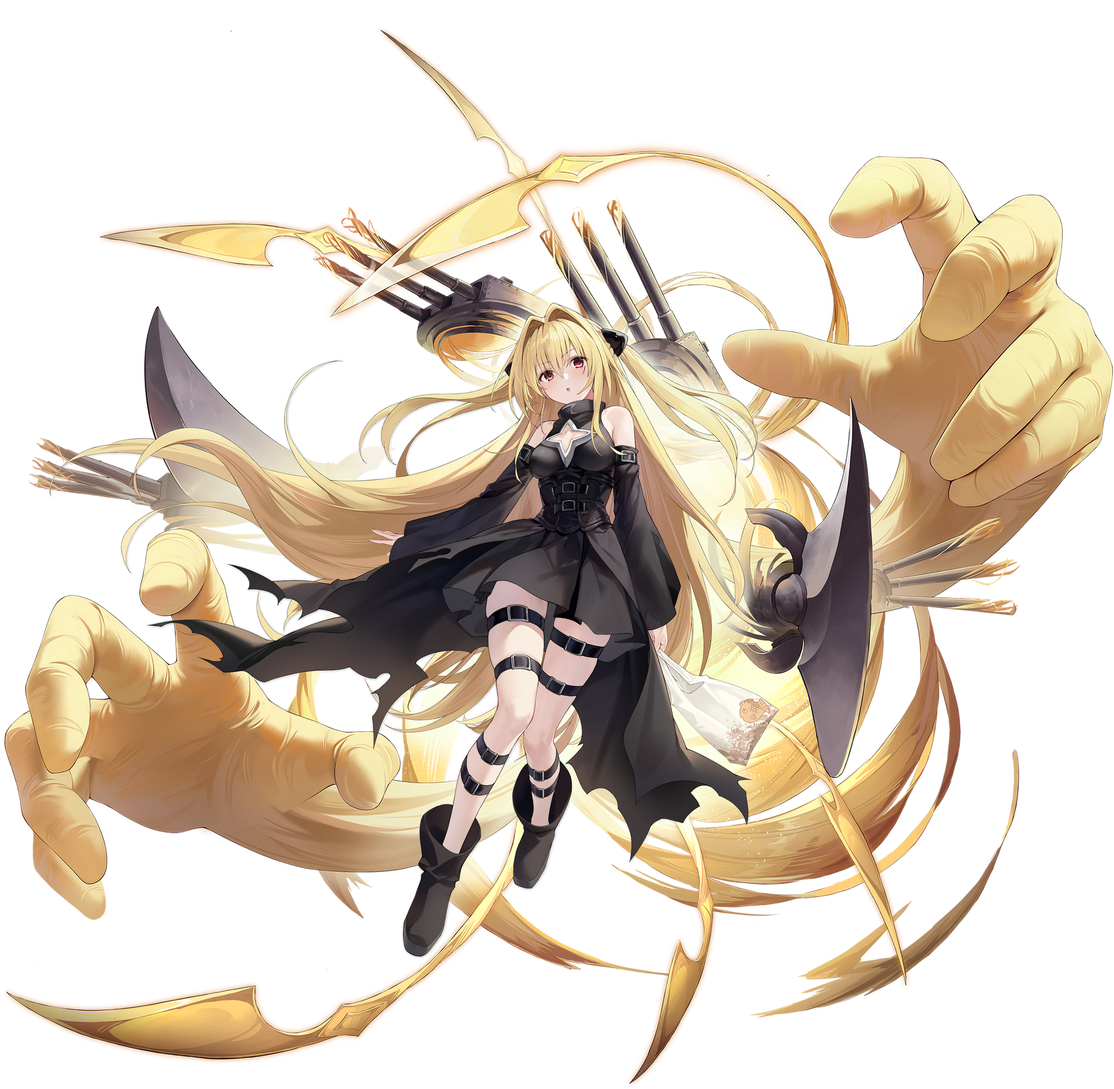person: (356, 269, 731, 1078)
